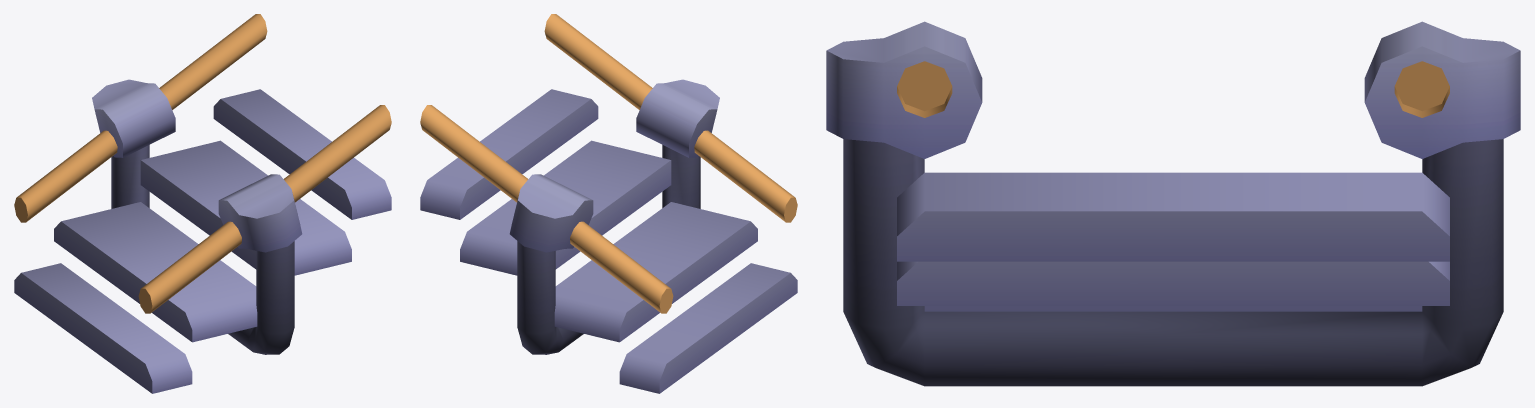
The model's file is kenney-factory-catwalk-stairs-loop.glb.
3 renders of one model, left to right at view 1: azimuth 30°, elevation 25°; view 2: azimuth 150°, elevation 25°; view 3: azimuth 270°, elevation 25°, orthographic. The views are drawn at different scales.
Visible parts, largest first — view 1: catwalk-stairs-loop; view 2: catwalk-stairs-loop; view 3: catwalk-stairs-loop.
Part boxes in pixels (box(x1,y1,x2,y2)): catwalk-stairs-loop: box(14, 14, 391, 393); catwalk-stairs-loop: box(420, 14, 797, 393); catwalk-stairs-loop: box(826, 21, 1520, 386).
Bounding box in the file's own units: 1 × 0.9 × 1.26.
Materials: 1 (1 with a texture image).
